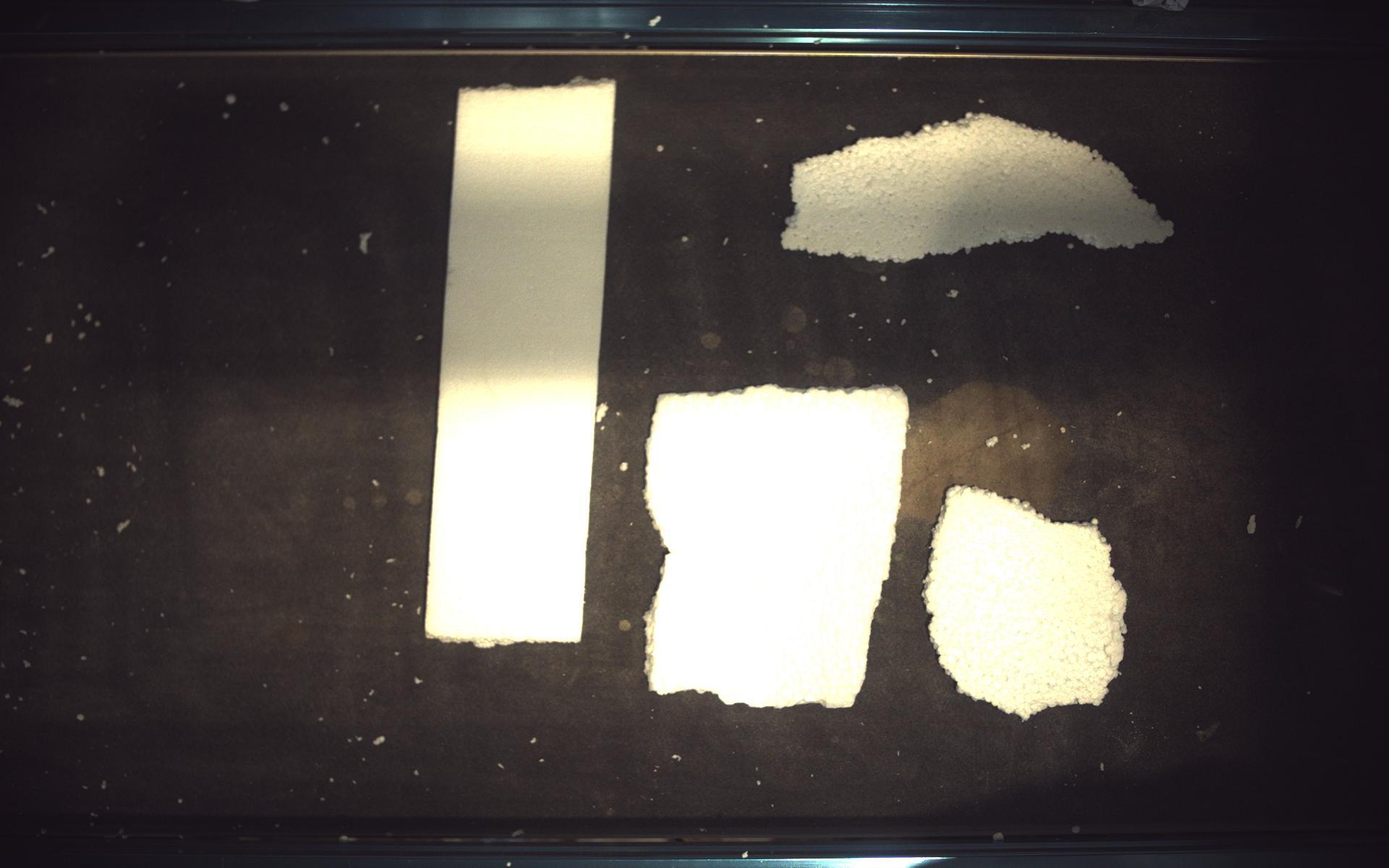foam: (425, 80, 616, 647), (647, 385, 910, 709), (783, 112, 1176, 262), (925, 487, 1129, 720)
